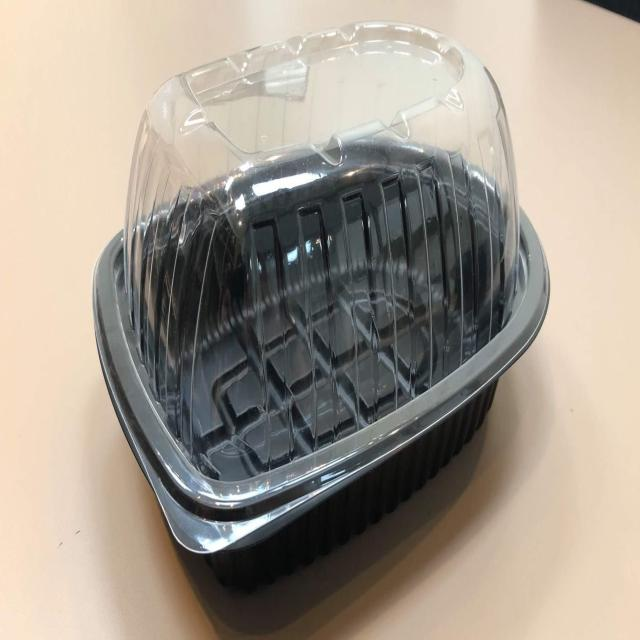plastic: (90, 22, 549, 595)
